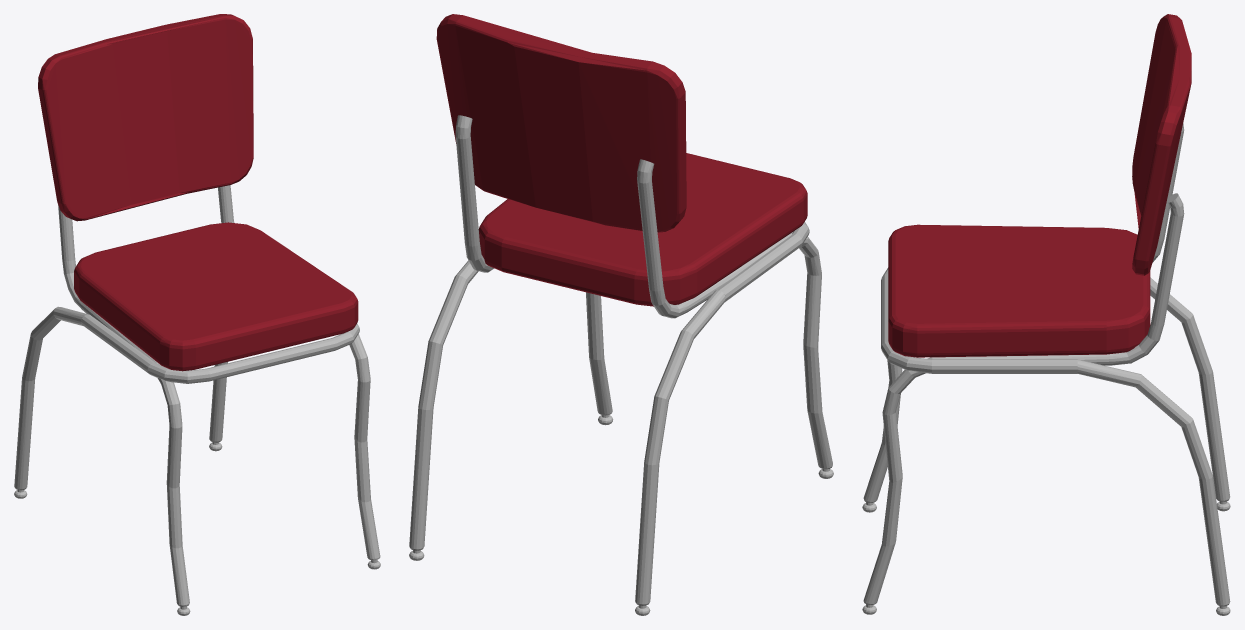
File: RedCushionChair.glb
3 views of the same model, side by side, from view 1: azimuth 30°, elevation 25°; view 2: azimuth 150°, elevation 25°; view 3: azimuth 270°, elevation 25° (orthographic). The views are drawn at different scales.
Visible parts, largest first — view 1: Node; view 2: Node; view 3: Node.
Part boxes in pixels (<box>): Node: <box>14,14,380,615</box>; Node: <box>409,14,833,615</box>; Node: <box>862,14,1230,615</box>.
Size of the model in its own units: 18.32 by 37.92 by 25.28.
